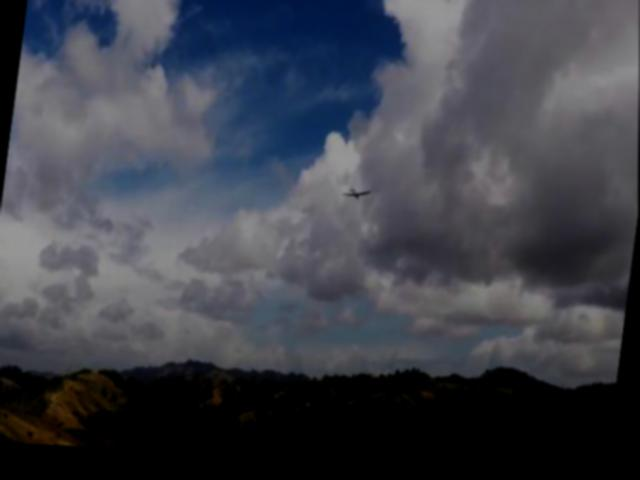iha: (340, 182, 373, 211)
